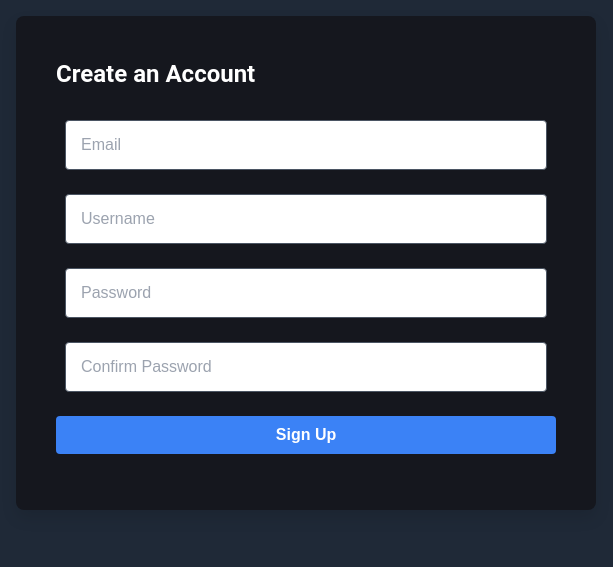
Scenario: SignUp Component › show text if passwords do not match
// use awaits to make sure jest does not proceed due to promise
In the field with placeholder "Email": x=306, y=145 [65,120,547,170], type "jck44@example.com"
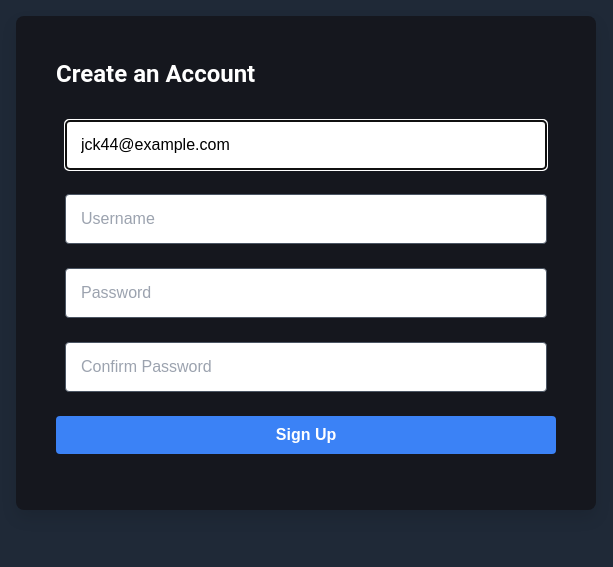
In the field with placeholder "Username": x=306, y=219 [65,194,547,244], type "jeremy"
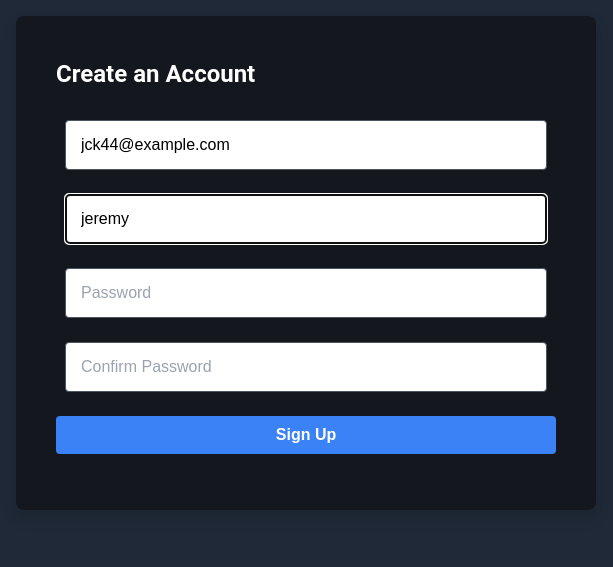
In the password field with placeholder "Password": x=306, y=293 [65,268,547,318], type "safwanbad"
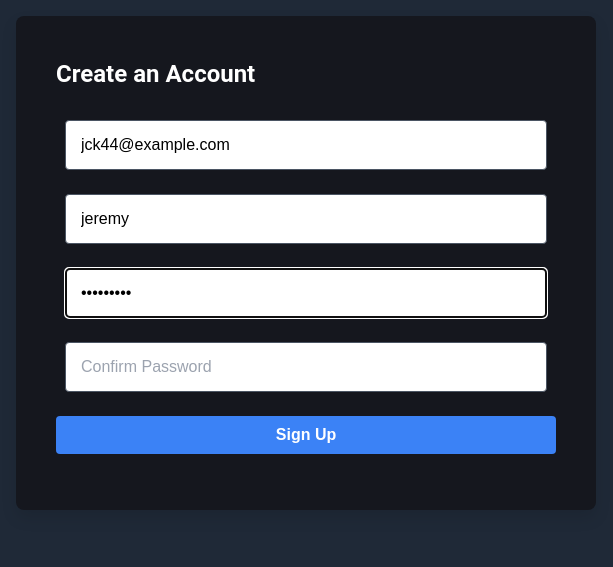
In the password field with placeholder "Confirm Password": x=306, y=367 [65,342,547,392], type "wrongpass"
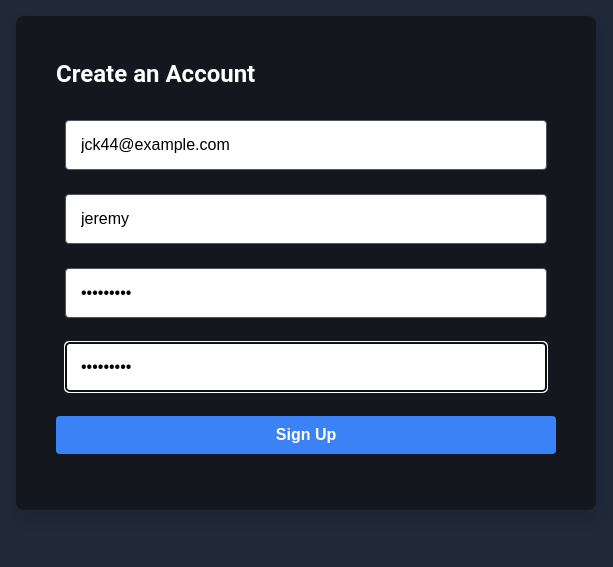
Click the button "Sign Up": x=306, y=435 [56,416,556,454]
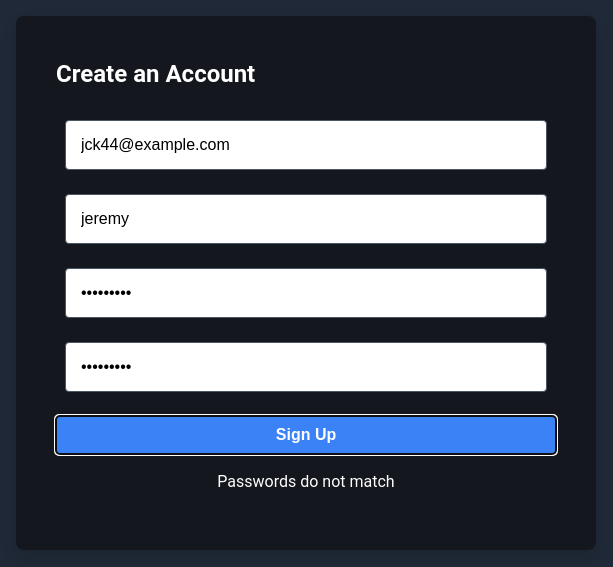
Expected: the text "Passwords do not match" is shown, [217,472,395,491]
